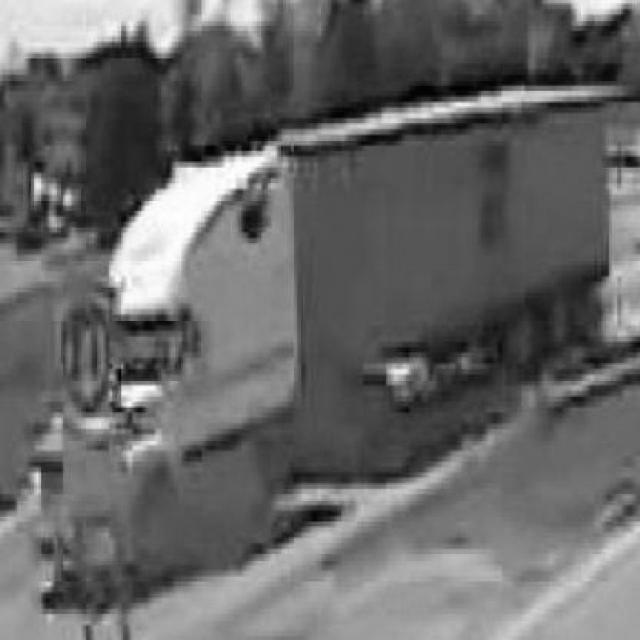Box Truck: (114, 86, 610, 566)
